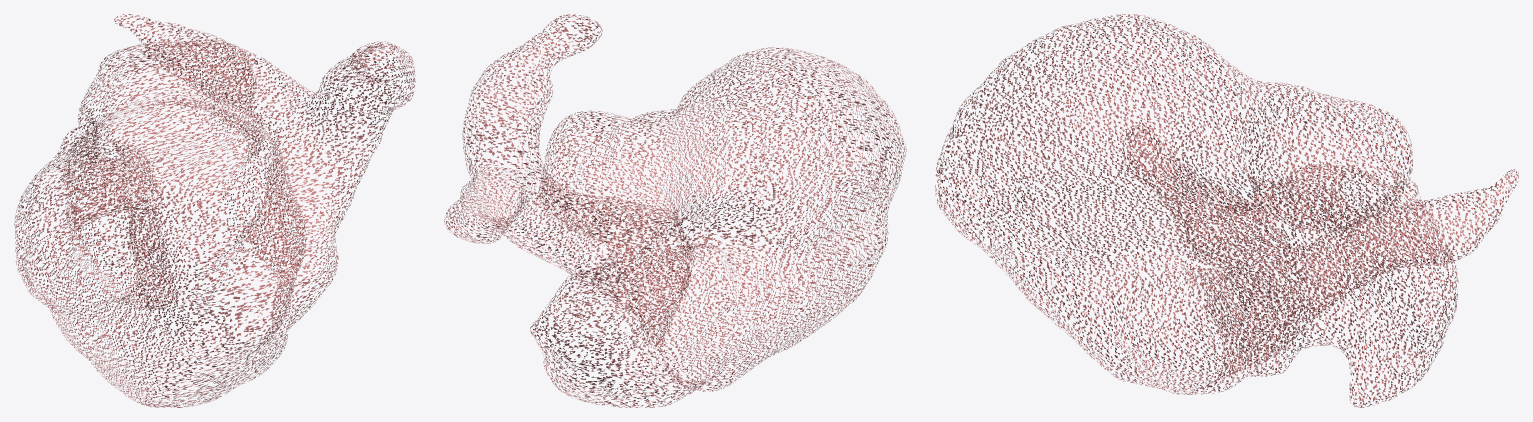
File: heart.glb
3 views of the same model, side by side, from view 1: azimuth 30°, elevation 25°; view 2: azimuth 150°, elevation 25°; view 3: azimuth 270°, elevation 25° (orthographic). The views are drawn at different scales.
Bounding box in the file's own units: 125 × 99.63 × 156.
